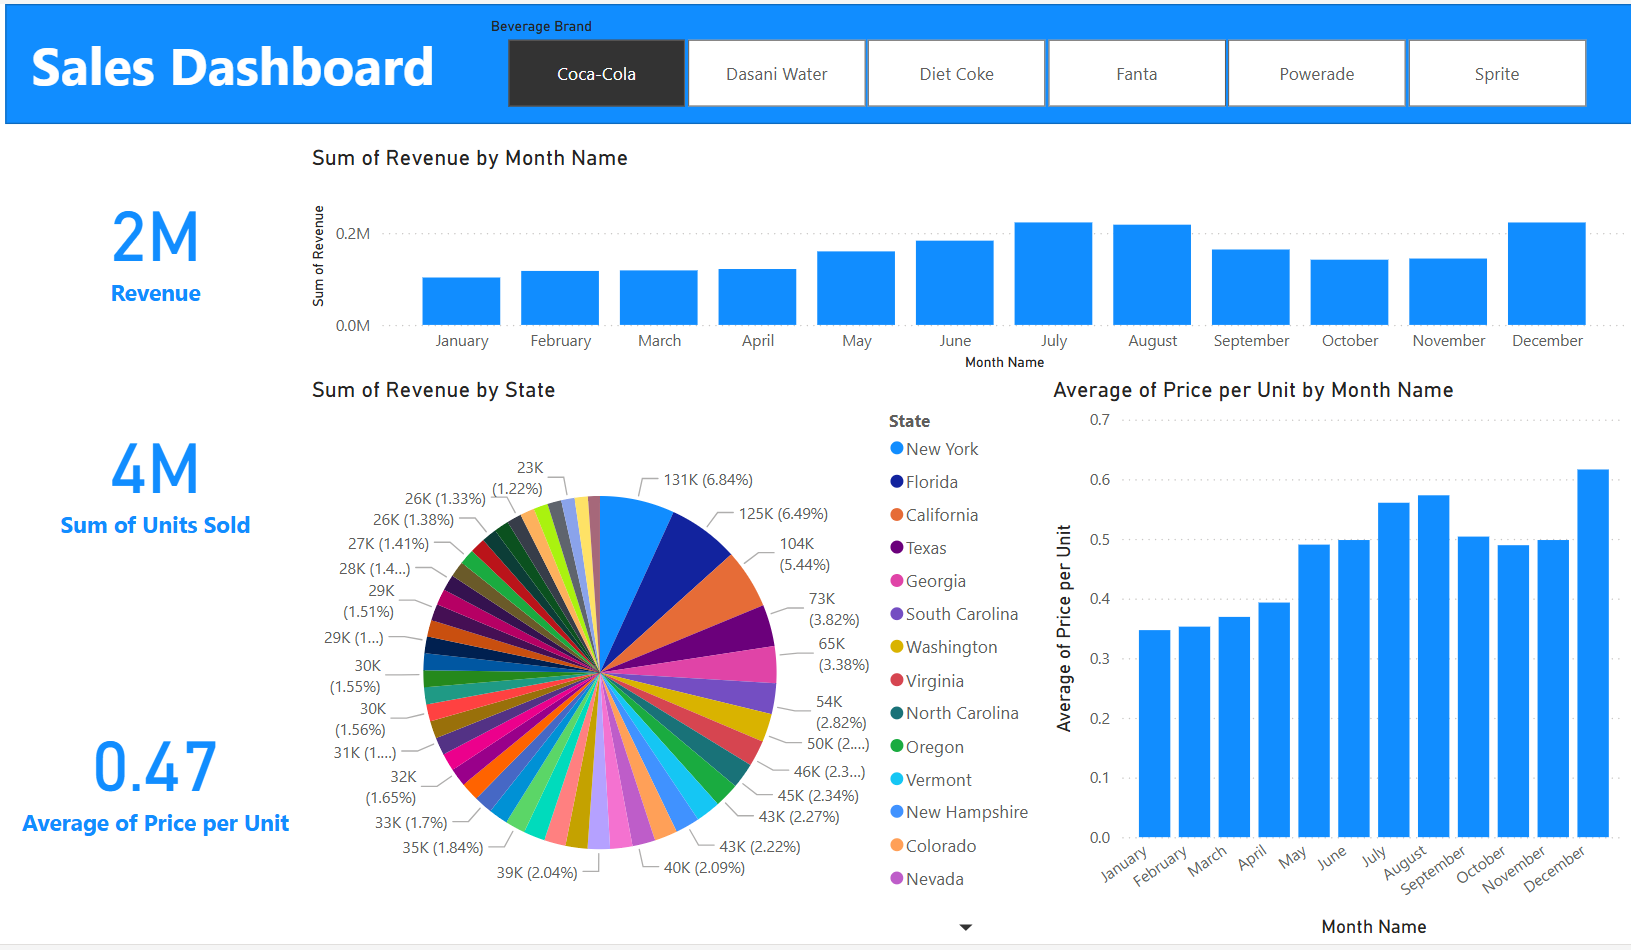

This screenshot's page, from the dashboard's own definition file:
{"tool":"powerbi","page":{"name":"Page 1","canvas":[1280,720],"ordinal":0},"visuals":[{"type":"shape","box":[16.5,0,1247.3,91.9],"z":0},{"type":"slicer","fields":{"Values":["Data.Beverage Brand"]},"box":[375.7,5.7,875.7,80],"z":1000},{"type":"card","fields":{"Values":["Sum(Data.Revenue)"]},"box":[17.1,107.1,228.6,150],"z":2000},{"type":"card","fields":{"Values":["Sum(Data.Units Sold)"]},"box":[17.1,285.7,228.6,150],"z":3000},{"type":"card","fields":{"Values":["Avg(Data.Price per Unit)"]},"box":[17.1,512.9,228.6,150],"z":4000},{"type":"columnChart","fields":{"Category":["Data.Month Name"],"Y":["Sum(Data.Revenue)"]},"box":[245.7,107.1,1017.1,178.6],"z":5000},{"type":"pieChart","fields":{"Category":["Data.State"],"Y":["Sum(Data.Revenue)"]},"box":[245.6,285.4,568.1,435],"z":6000},{"type":"columnChart","fields":{"Y":["Avg(Data.Price per Unit)"],"Category":["Data.Month Name"]},"box":[813.7,285.4,448.7,435],"z":7000}]}

Visuals, with their boxes on the page's 1280x720 design canvas (x1, y1, x2, y2). These are canvas units, not pixel positions in the 1631x950 screenshot, which may show the page scaled, cropped or inside an application window:
shape: bbox=(16, 0, 1264, 92)
slicer - Data.Beverage Brand: bbox=(376, 6, 1251, 86)
card - Sum(Data.Revenue): bbox=(17, 107, 246, 257)
card - Sum(Data.Units Sold): bbox=(17, 286, 246, 436)
card - Avg(Data.Price per Unit): bbox=(17, 513, 246, 663)
columnChart - Data.Month Name x Sum(Data.Revenue): bbox=(246, 107, 1263, 286)
pieChart - Data.State x Sum(Data.Revenue): bbox=(246, 285, 814, 720)
columnChart - Avg(Data.Price per Unit) x Data.Month Name: bbox=(814, 285, 1262, 720)
